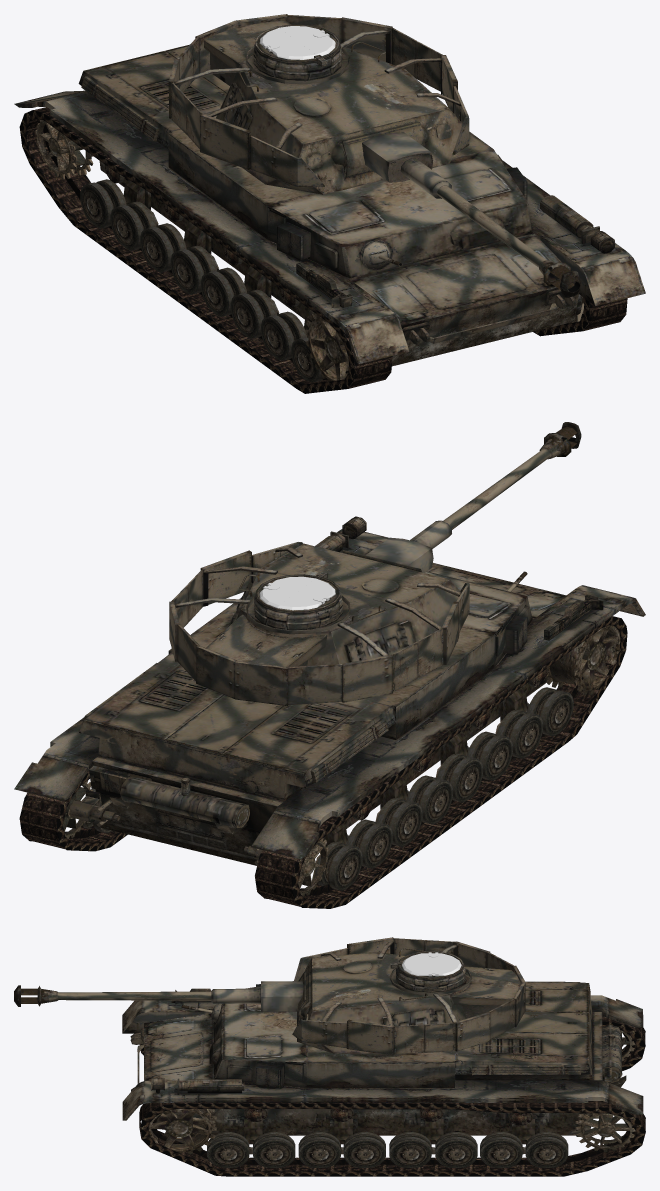
3 renders of one model, top to bottom at view 1: azimuth 30°, elevation 25°; view 2: azimuth 150°, elevation 25°; view 3: azimuth 270°, elevation 25°, orthographic. The views are drawn at different scales.
Visible parts, largest first — view 1: Hull, Turret, GunMantlet, Barrel; view 2: Hull, Turret, Barrel, GunMantlet; view 3: Hull, Turret, GunMantlet, Barrel.
Part boxes in pixels (x1,y1,x2,y2): Hull: (14,44,645,393); Turret: (168,14,469,194); GunMantlet: (342,122,451,198); Barrel: (437,186,580,297); Hull: (14,516,645,908); Turret: (169,542,469,705); Barrel: (443,422,581,529); GunMantlet: (342,520,451,572); Hull: (122,981,645,1176); Turret: (292,937,525,1055); GunMantlet: (211,971,305,1022); Barrel: (14,985,211,1006).
Bounding box in the file's own units: 2.34 × 1.68 × 5.9.
7 materials, 7 textured.
